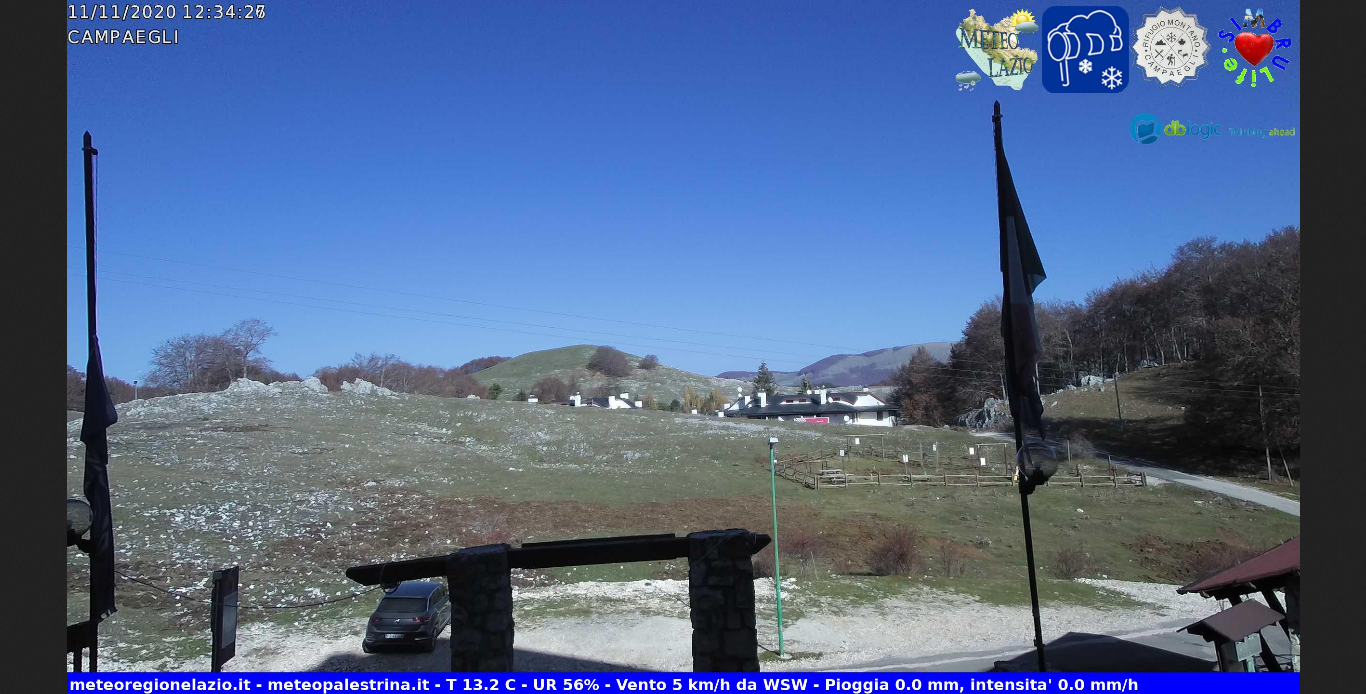no: (981, 92, 1068, 487)
